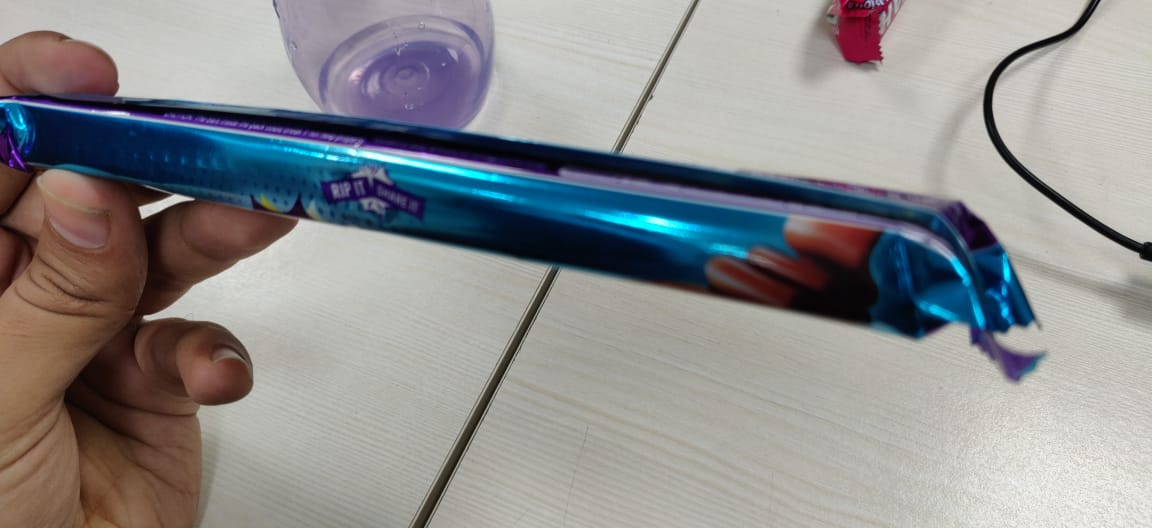perk: (1, 75, 1063, 400)
